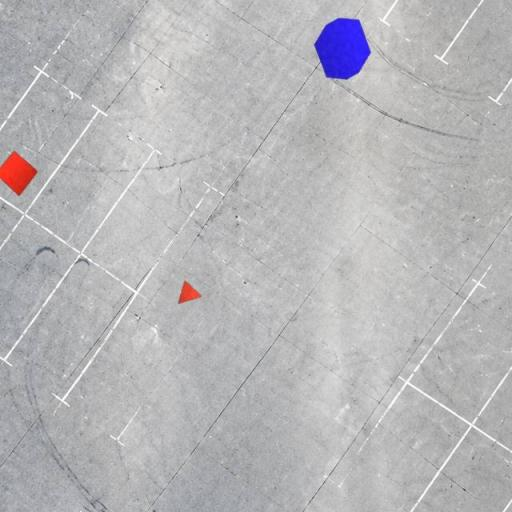RED_SQUARE: (0, 149, 38, 196)
